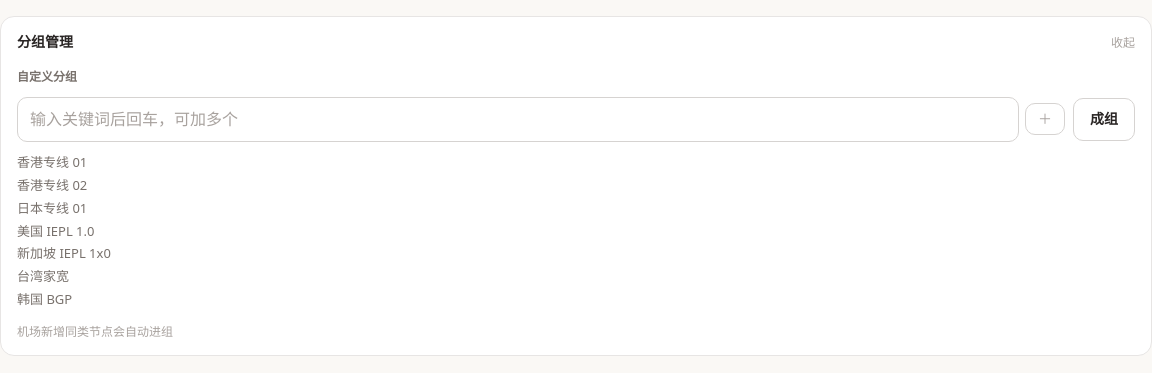
Test case: GroupPanel 多关键词 chip 输入与 AND 命中 › 删词：点词 chip 的 × 移除，命中数随之放宽
In the field named "分组关键词": (518, 119) [17,97,1019,142], type "香港"
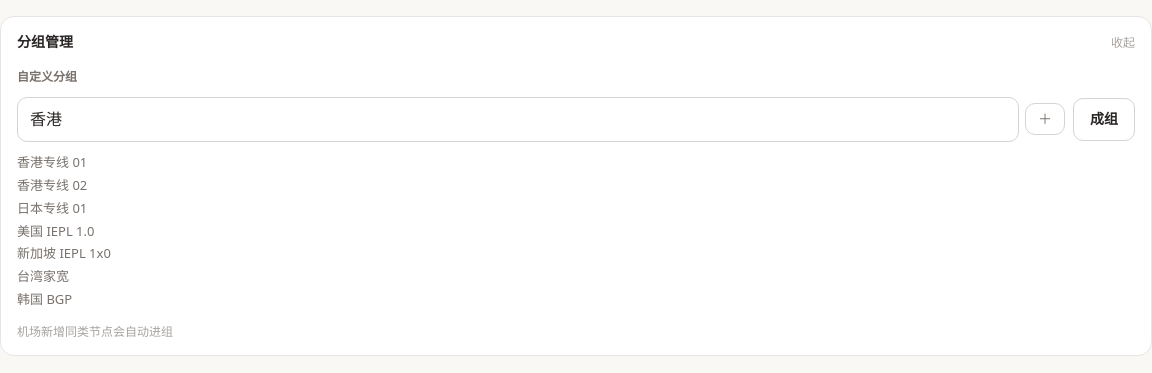
Press Enter in the field named "分组关键词", box [17,97,1019,142]
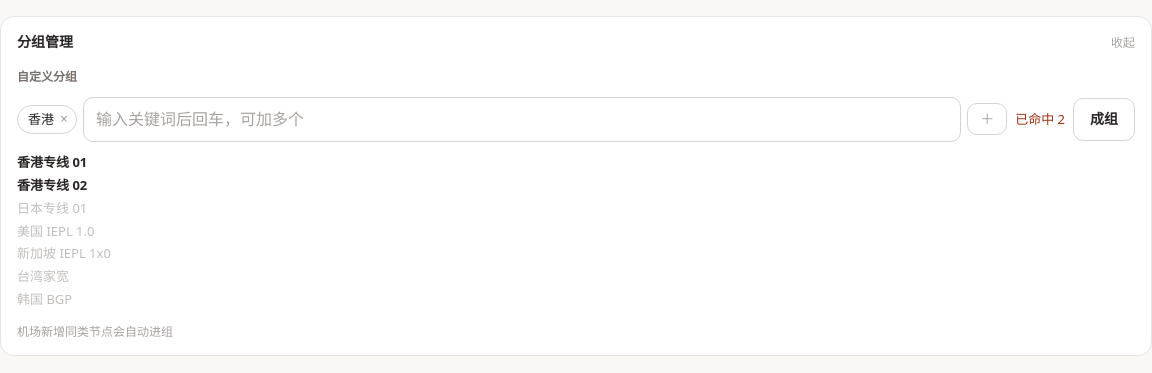
In the field named "分组关键词": (522, 119) [83,97,961,142], type "专线"
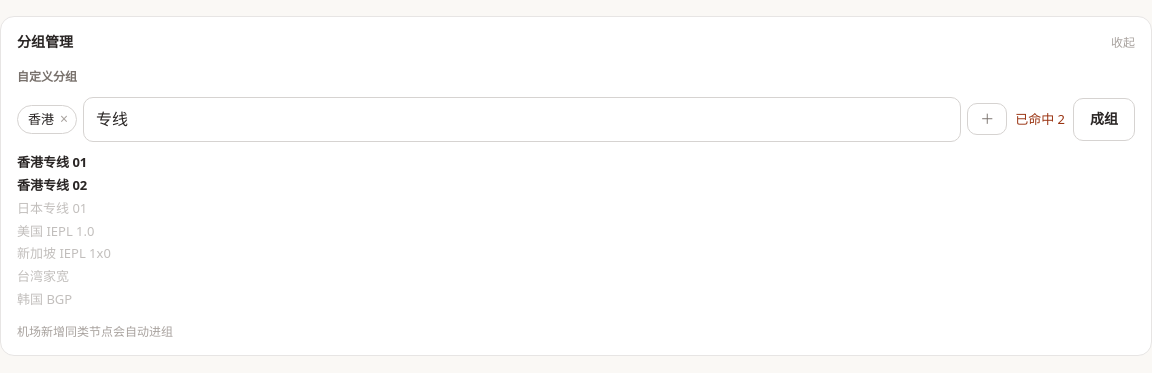
Press Enter in the field named "分组关键词", box [83,97,961,142]
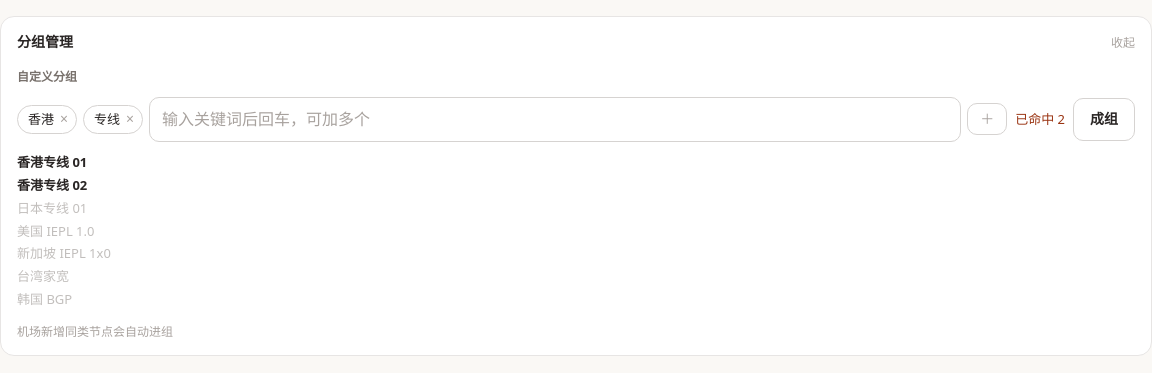
Check: the text "已命中 2" is shown, box [1015,109,1065,130]
Click the button named "删除关键词 香港": (64, 119) [58,112,70,126]
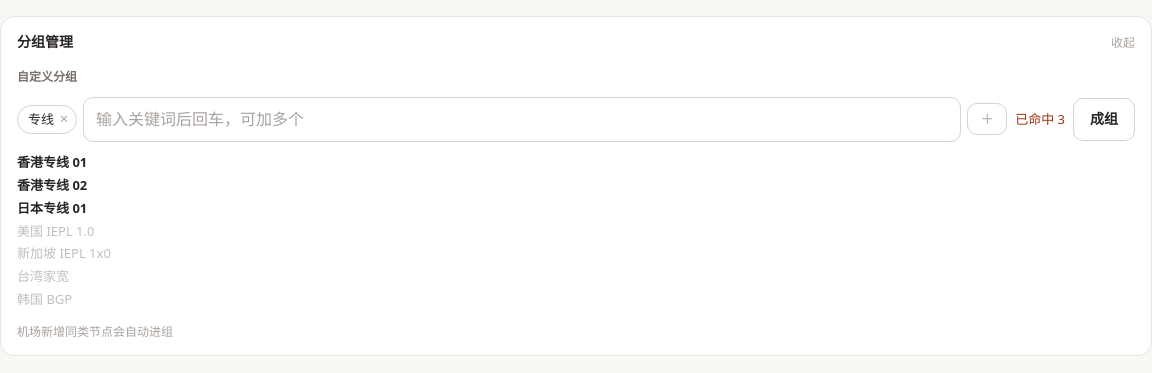
Check: the number of elements with class "kw-chip" is 1, box [17,105,77,134]
Check: the text "已命中 3" is shown, box [1015,109,1065,130]
